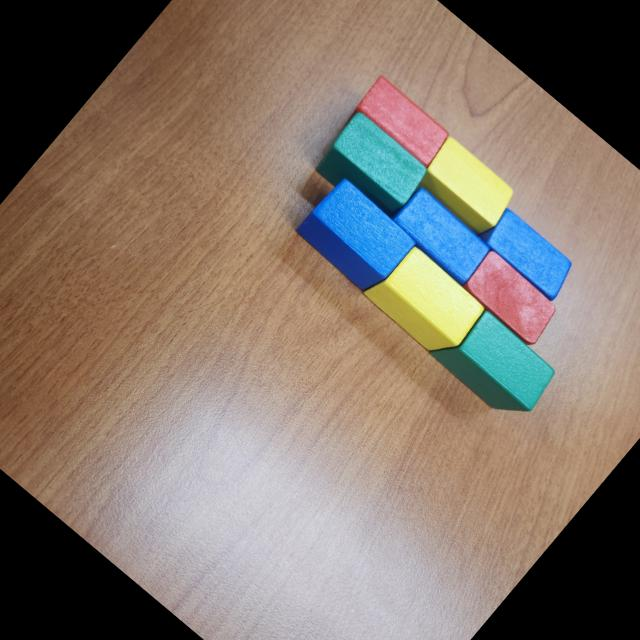blue: (291, 173, 420, 298), (384, 182, 494, 286), (472, 202, 580, 302)
green: (422, 296, 562, 430), (309, 109, 432, 228)
red: (338, 75, 455, 187), (457, 248, 562, 348)
yellow: (359, 238, 491, 364), (410, 134, 520, 240)
